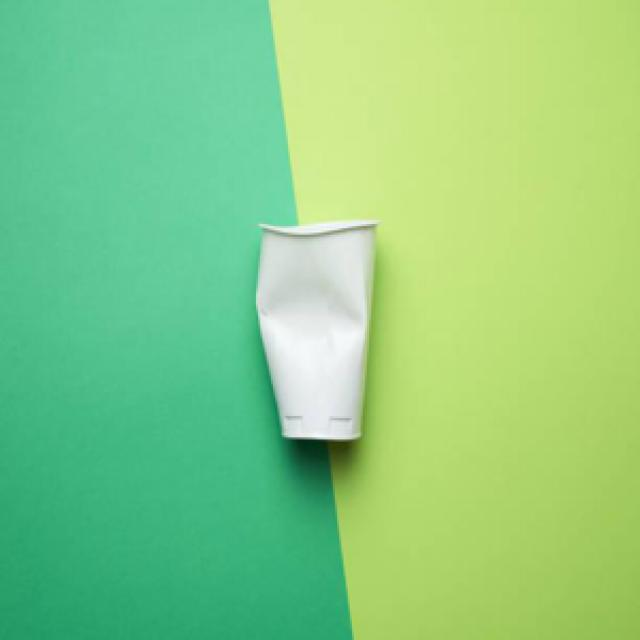plastic cup: (250, 211, 384, 457)
